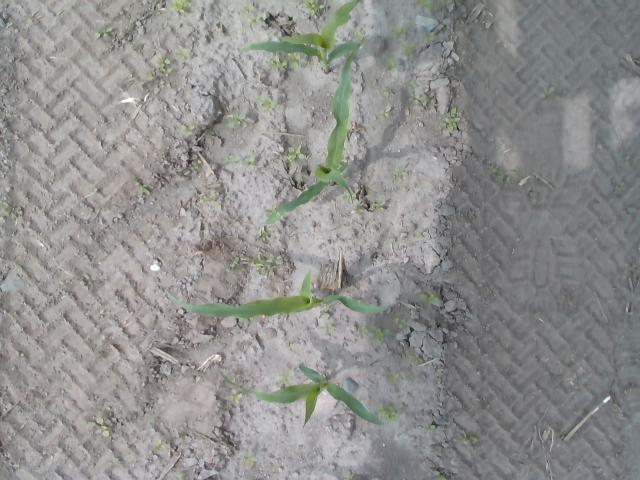Maize: (262, 35, 366, 230), (165, 269, 386, 319), (218, 362, 384, 428), (238, 0, 362, 74)
Weeds: (146, 52, 173, 80), (356, 324, 392, 344), (255, 252, 283, 275), (271, 51, 301, 72), (442, 99, 461, 131), (487, 163, 512, 185), (240, 0, 262, 25), (223, 154, 256, 168), (376, 404, 401, 422), (93, 416, 111, 438), (275, 366, 294, 385), (257, 95, 278, 111), (228, 111, 246, 129), (406, 94, 432, 106), (390, 23, 408, 40), (422, 290, 441, 306), (462, 431, 480, 445), (286, 146, 304, 160), (170, 0, 192, 11), (153, 438, 168, 454), (302, 0, 319, 14), (225, 388, 242, 402), (95, 24, 112, 38), (538, 85, 554, 99), (256, 224, 269, 241), (227, 253, 239, 270), (415, 0, 433, 11), (386, 370, 400, 384), (402, 42, 418, 54), (176, 48, 190, 61), (386, 58, 398, 72), (411, 352, 425, 364), (320, 322, 334, 334), (423, 30, 436, 42), (243, 454, 258, 464), (375, 202, 387, 214), (394, 318, 406, 329), (392, 167, 406, 176), (382, 86, 394, 96), (424, 424, 436, 432), (379, 110, 390, 118), (356, 199, 364, 210), (408, 80, 417, 89), (139, 184, 149, 192), (436, 475, 448, 480)
